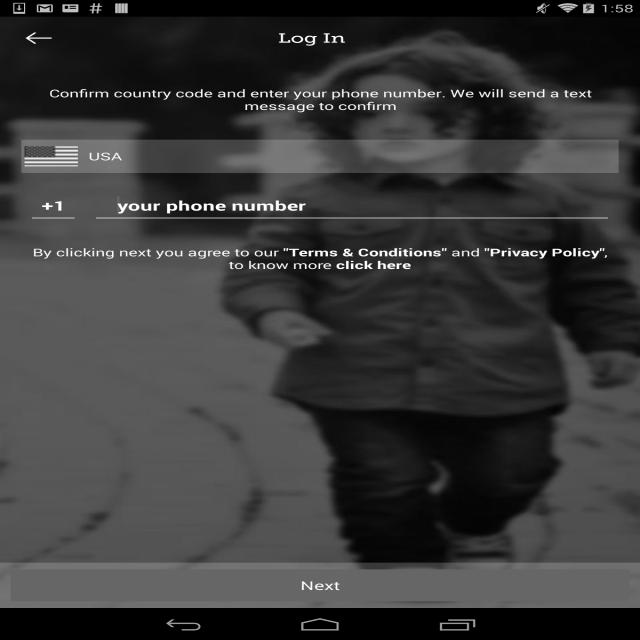Button: (11, 570, 629, 602)
EditText: (112, 193, 613, 218)
ImageView: (24, 146, 78, 166), (26, 31, 52, 45)
Spinner: (21, 140, 619, 173)
TextView: (21, 73, 619, 126), (91, 17, 532, 59), (32, 245, 608, 272), (89, 146, 616, 166), (32, 193, 75, 218)
